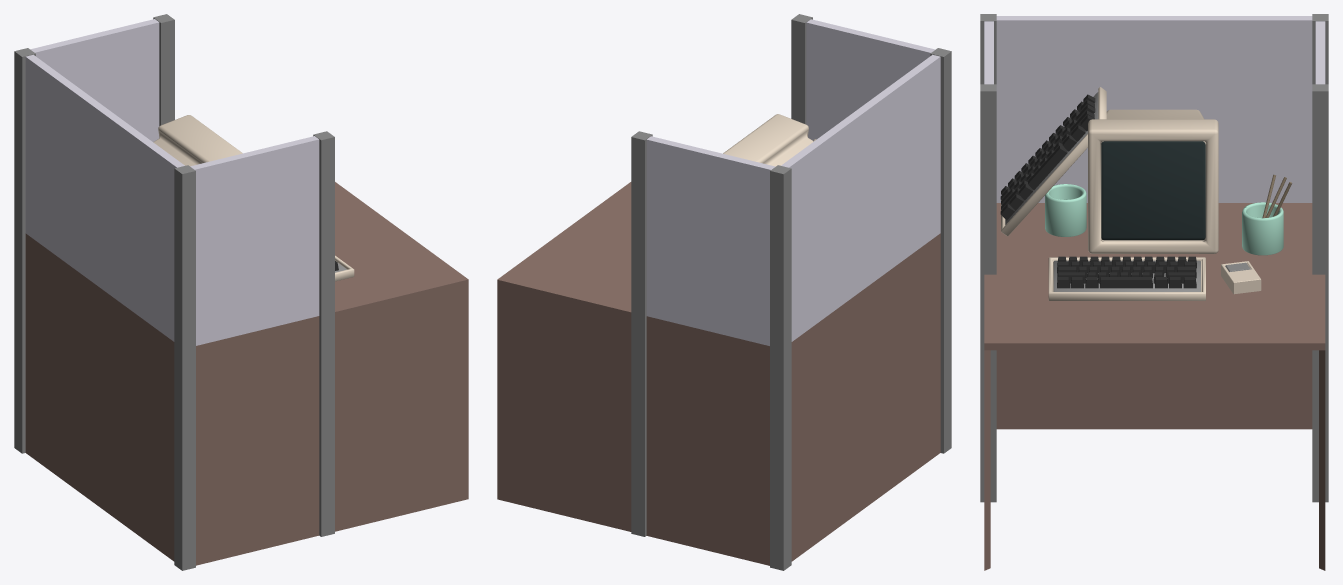
Rendered from aio.fbx.
The picture shows the model from 3 angles, left to right: view 1: azimuth 30°, elevation 25°; view 2: azimuth 150°, elevation 25°; view 3: azimuth 270°, elevation 25°; orthographic projection. The views are drawn at different scales.
Parts seen in each view (by area): view 1: AIO.061, AIO.066, AIO.064, AIO.062, AIO.065, AIO.003, AIO.063; view 2: AIO.061, AIO.066, AIO.065, AIO.063, AIO.064, AIO.003, AIO.062; view 3: AIO.061, AIO.066, AIO.001, AIO.003, AIO.009, AIO.062, AIO.063, AIO.006, AIO.004, AIO.067, AIO.005, AIO.065 (+1 smaller).
Part boxes in pixels (left/top/right/bottom): AIO.061: left=25, top=182, right=468, bottom=565; AIO.066: left=25, top=19, right=319, bottom=345; AIO.064: left=174, top=165, right=195, bottom=570; AIO.062: left=313, top=131, right=334, bottom=536; AIO.065: left=14, top=48, right=35, bottom=453; AIO.003: left=153, top=115, right=242, bottom=166; AIO.063: left=153, top=14, right=174, bottom=125; AIO.061: left=497, top=182, right=940, bottom=565; AIO.066: left=646, top=19, right=940, bottom=345; AIO.065: left=770, top=165, right=791, bottom=570; AIO.063: left=631, top=131, right=652, bottom=536; AIO.064: left=930, top=48, right=951, bottom=453; AIO.003: left=723, top=114, right=813, bottom=166; AIO.062: left=791, top=14, right=812, bottom=124; AIO.061: left=984, top=203, right=1325, bottom=570; AIO.066: left=984, top=16, right=1325, bottom=202; AIO.001: left=1101, top=141, right=1205, bottom=240; AIO.003: left=1088, top=109, right=1218, bottom=253; AIO.009: left=1048, top=256, right=1205, bottom=300; AIO.062: left=980, top=84, right=996, bottom=502; AIO.063: left=1312, top=84, right=1328, bottom=502; AIO.006: left=1000, top=87, right=1106, bottom=236; AIO.004: left=1045, top=184, right=1086, bottom=236; AIO.067: left=1242, top=202, right=1283, bottom=255; AIO.005: left=1221, top=261, right=1261, bottom=294; AIO.065: left=1312, top=14, right=1328, bottom=84.
Size of the model in its own units: 529 by 695 by 534.
